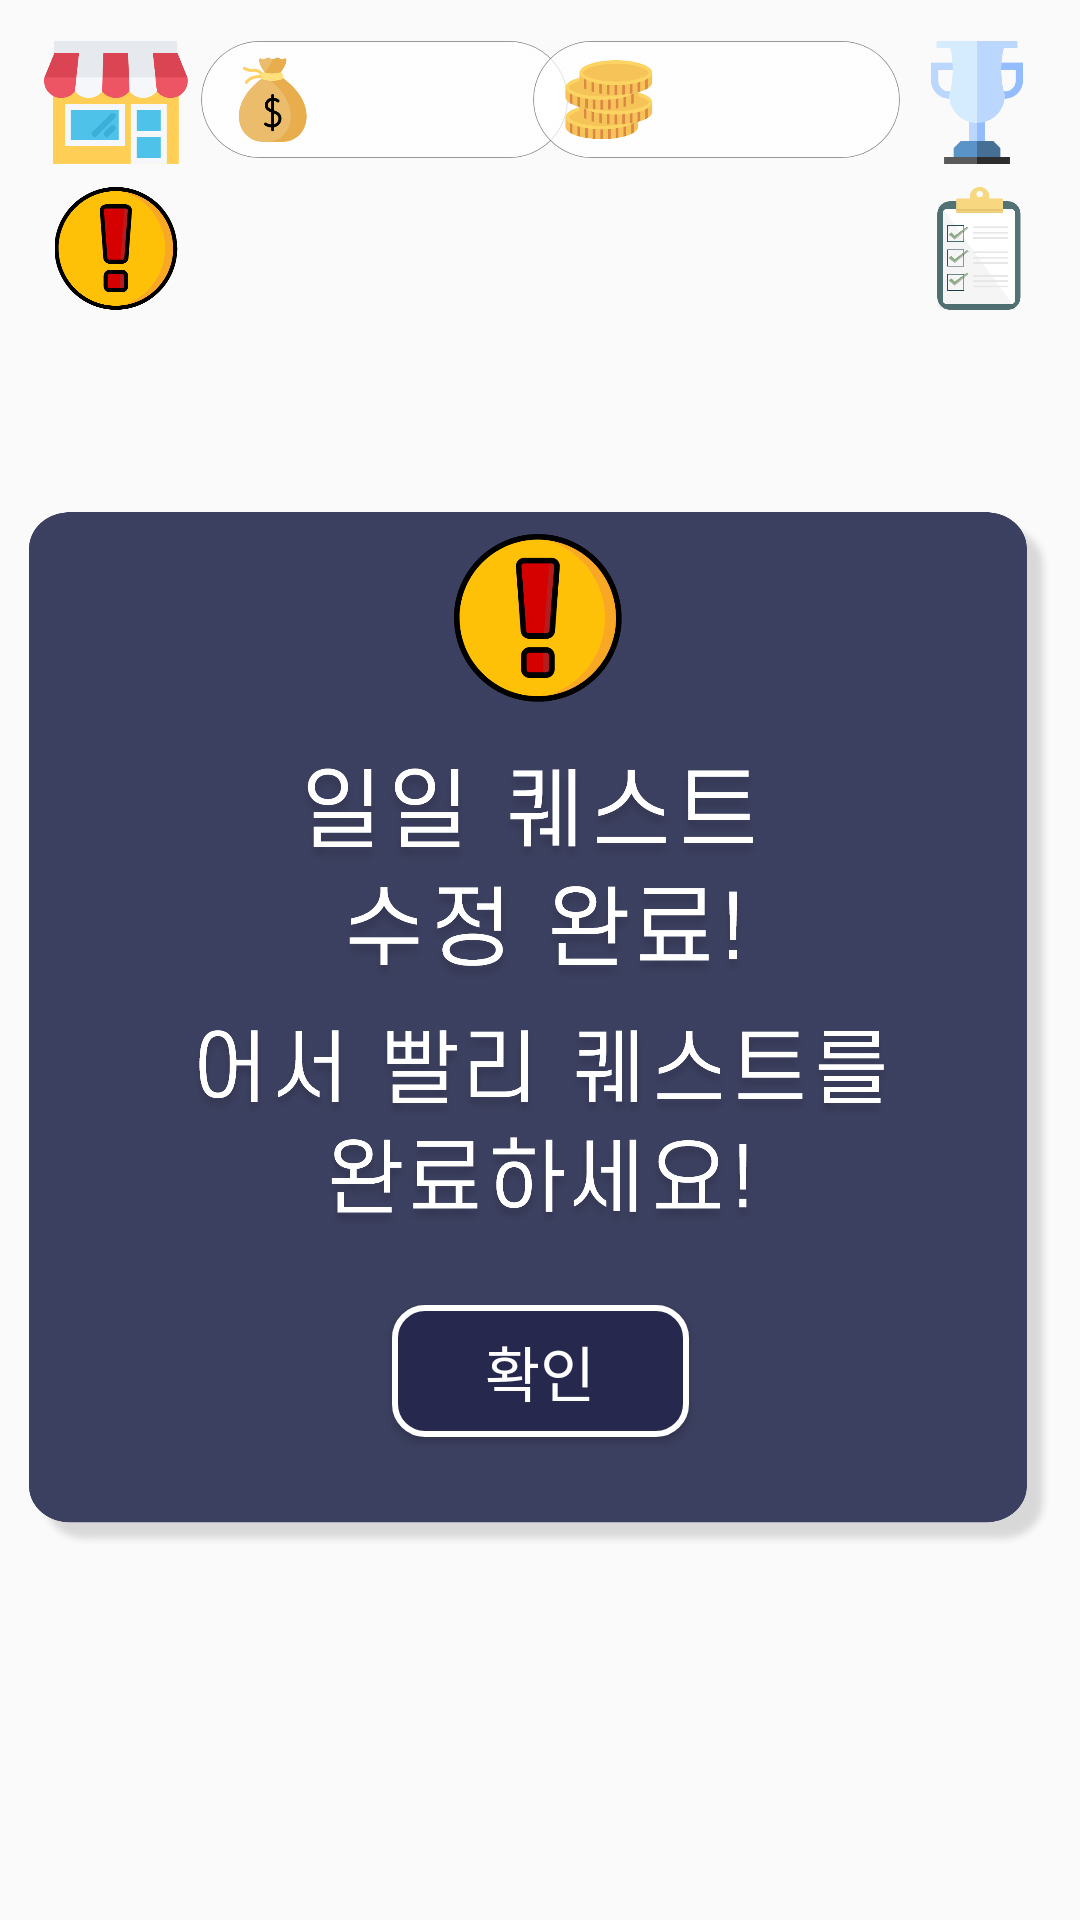

Named icons in this screenshot (1080*1920) and their centers, [x,y]:
todo list: [979,248]
trophy: [977,102]
